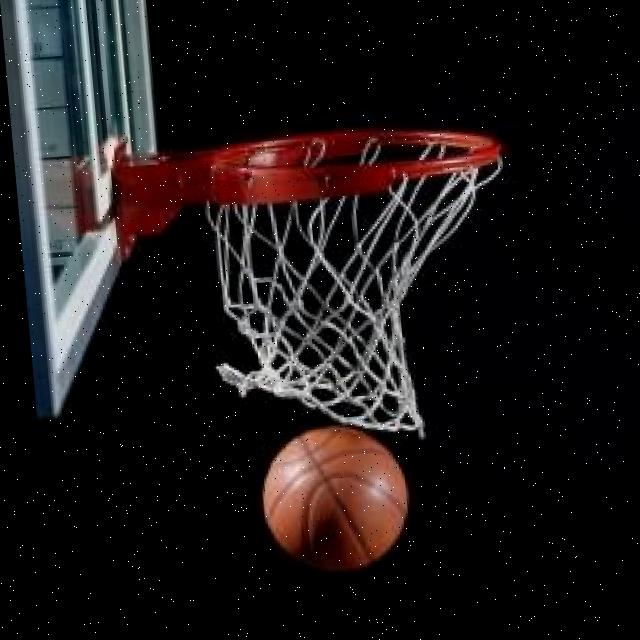basketball: (255, 418, 416, 579)
hoop: (177, 113, 530, 459)
